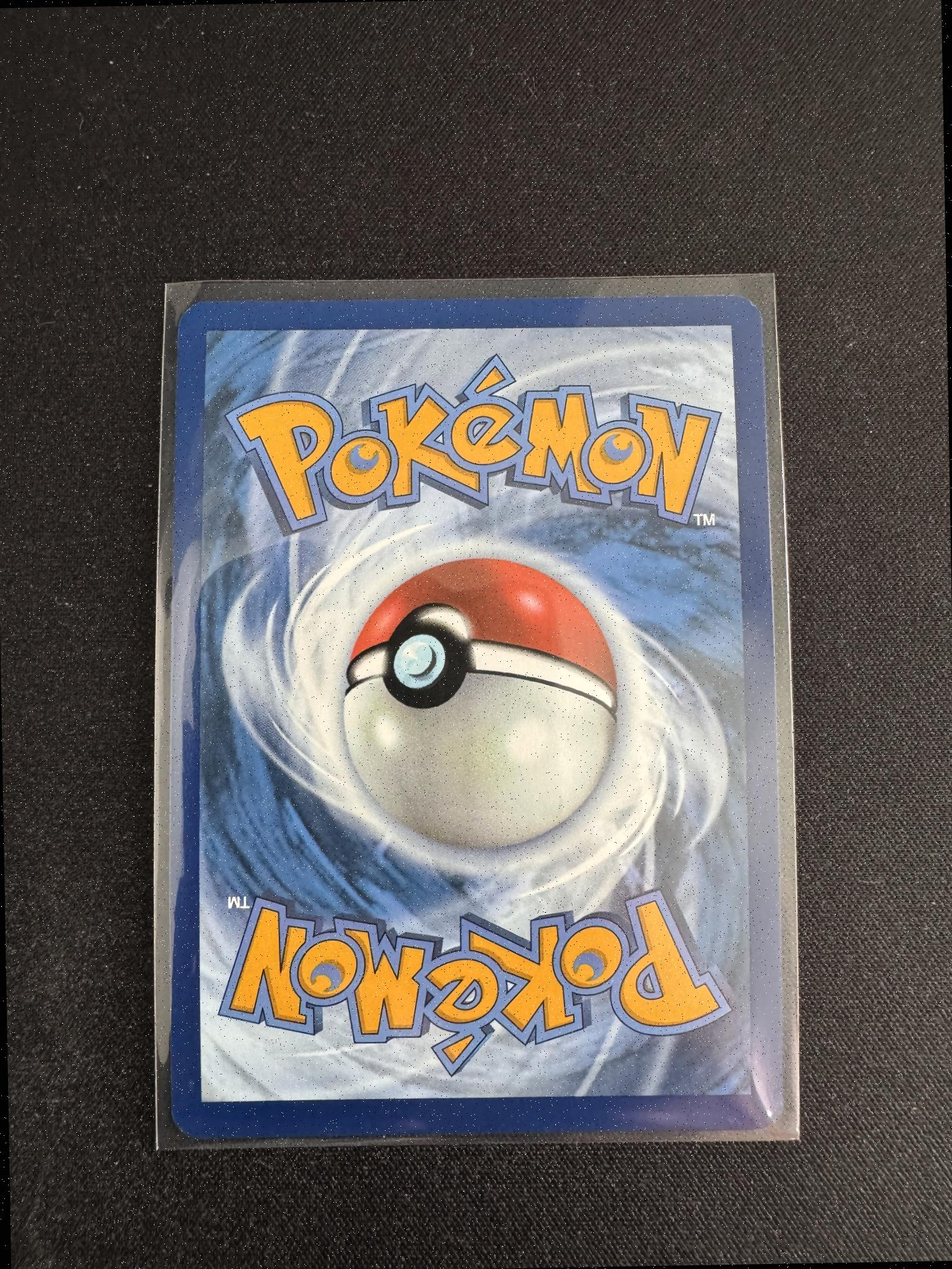card-2UtV: (169, 296, 783, 1139)
